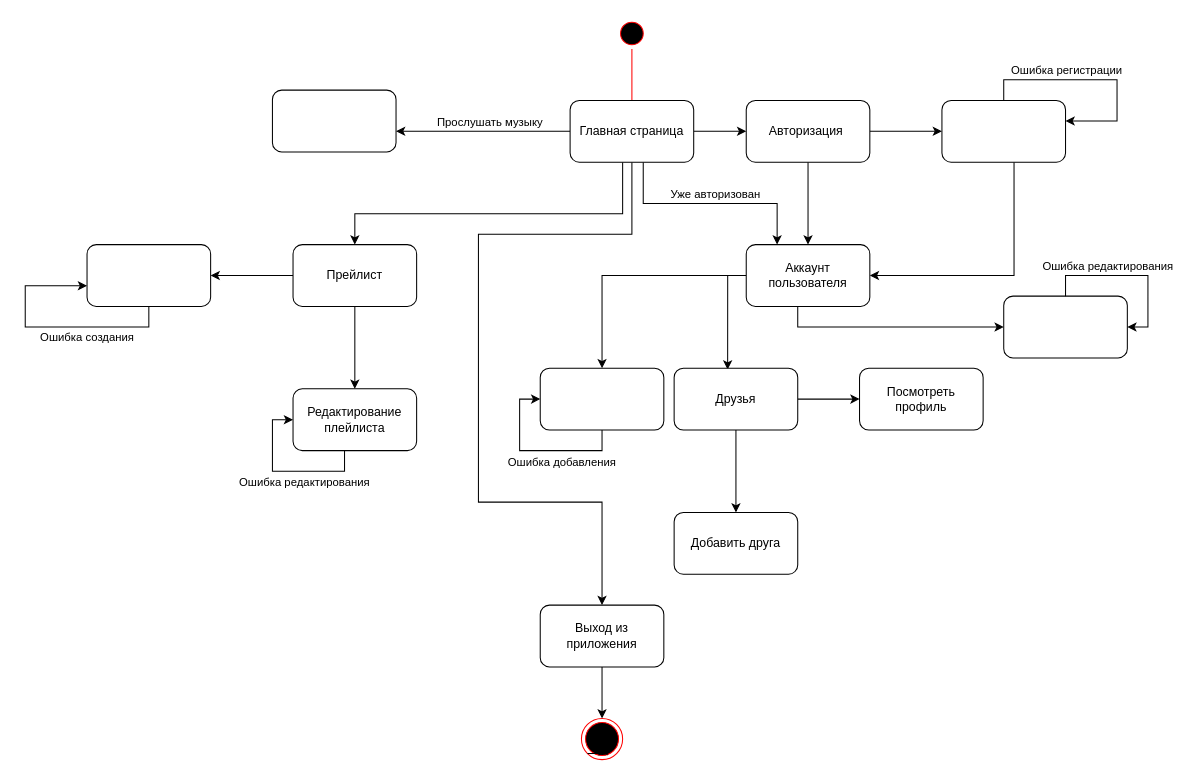
The diagram is 1191 pixels wide and 781 high, and some of its shapes have lost their labels. Each missing label, with the centre of its shape:
"Добавление трека" belongs at point (601, 398).
"Плеер" belongs at point (333, 120).
"Регистрация" belongs at point (1003, 130).
"Редактирование профиля" belongs at point (1065, 326).
"Создание плейлиста" belongs at point (148, 275).
